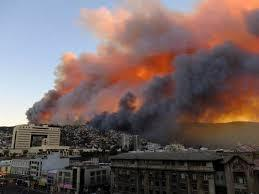yanwu: (27, 0, 259, 124)
